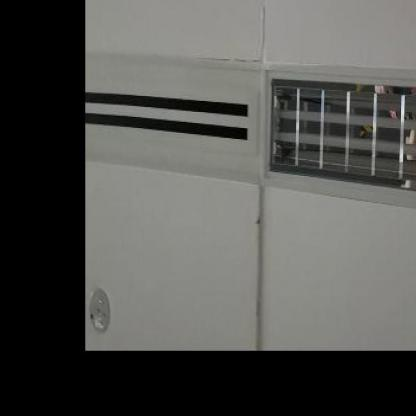light_off: (262, 11, 415, 252)
